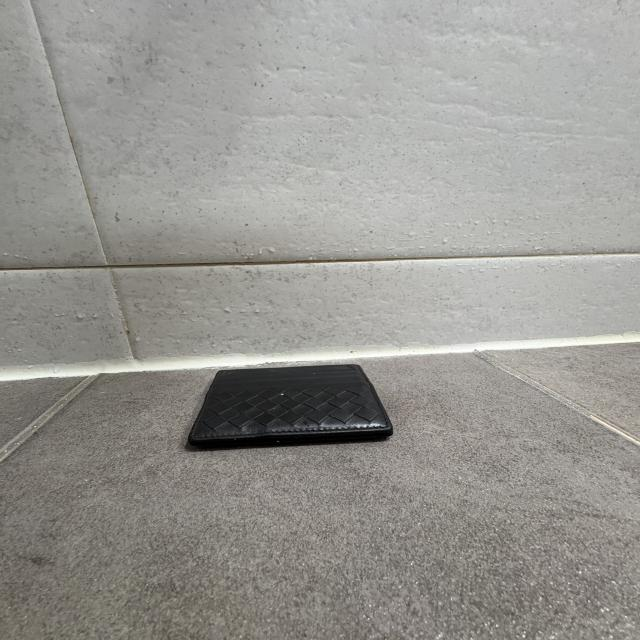wallet: (188, 364, 392, 452)
